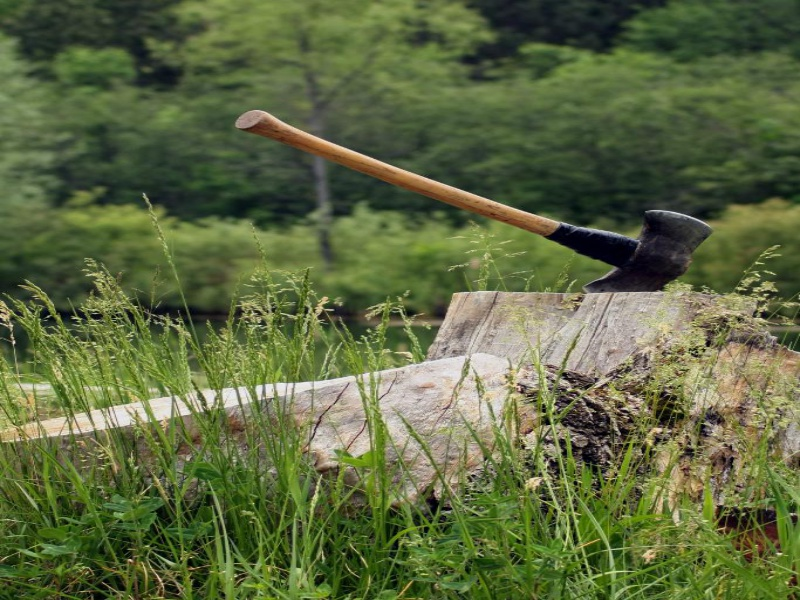axe: (541, 208, 713, 311)
